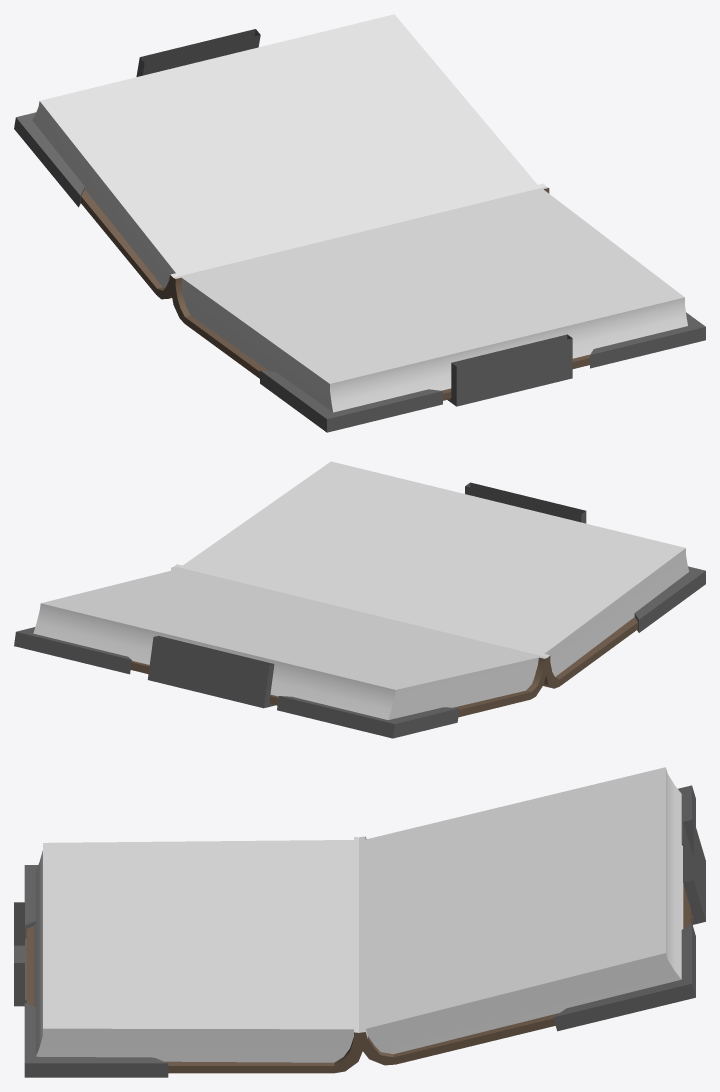
The model's file is SM_GrimoireOuvert.fbx.
3 renders of one model, top to bottom at view 1: azimuth 30°, elevation 25°; view 2: azimuth 150°, elevation 25°; view 3: azimuth 270°, elevation 25°, orthographic. The views are drawn at different scales.
Parts seen in each view (by area): view 1: GrimoireOuvert; view 2: GrimoireOuvert; view 3: GrimoireOuvert.
Part boxes in pixels (x1=…): GrimoireOuvert: x1=14, y1=14, x2=705, y2=432; GrimoireOuvert: x1=14, y1=461, x2=705, y2=738; GrimoireOuvert: x1=14, y1=767, x2=705, y2=1077.
Bounding box in the file's own units: 3.27 × 0.9685 × 4.81.
